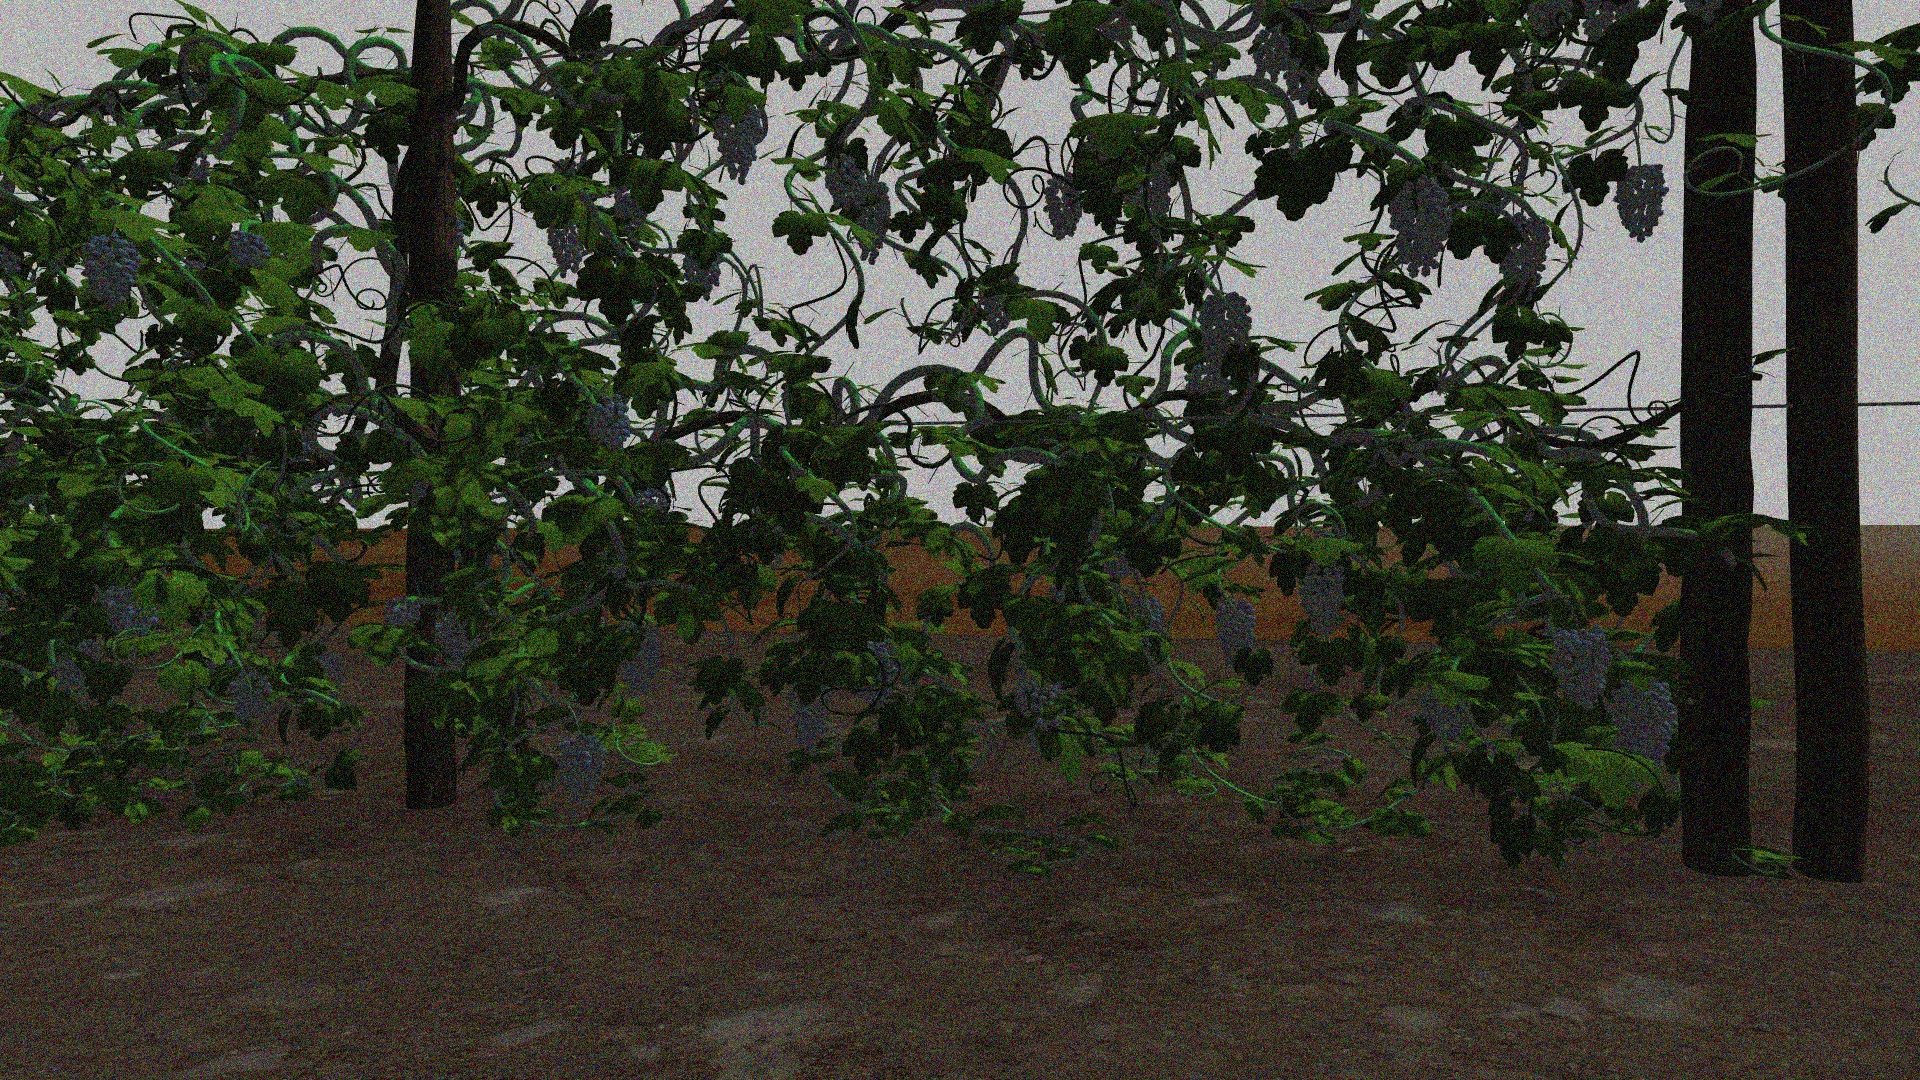grape: (1389, 174, 1455, 278), (1607, 676, 1679, 765), (1549, 620, 1611, 713), (711, 91, 762, 185), (1197, 291, 1251, 378), (1613, 165, 1669, 245), (80, 233, 141, 309), (1298, 560, 1349, 644), (1497, 214, 1551, 289), (615, 621, 665, 702), (553, 732, 607, 806), (849, 181, 891, 264), (1213, 595, 1259, 670), (103, 583, 160, 644), (789, 680, 831, 754), (225, 666, 273, 725), (1043, 173, 1083, 241), (584, 394, 630, 452), (434, 608, 480, 666), (1422, 686, 1465, 746), (1011, 682, 1064, 731), (1282, 47, 1327, 104), (682, 243, 724, 301), (1129, 169, 1174, 222), (546, 219, 584, 276), (824, 156, 860, 208), (1251, 32, 1287, 80), (227, 231, 269, 272), (382, 596, 422, 626), (636, 487, 667, 514)
